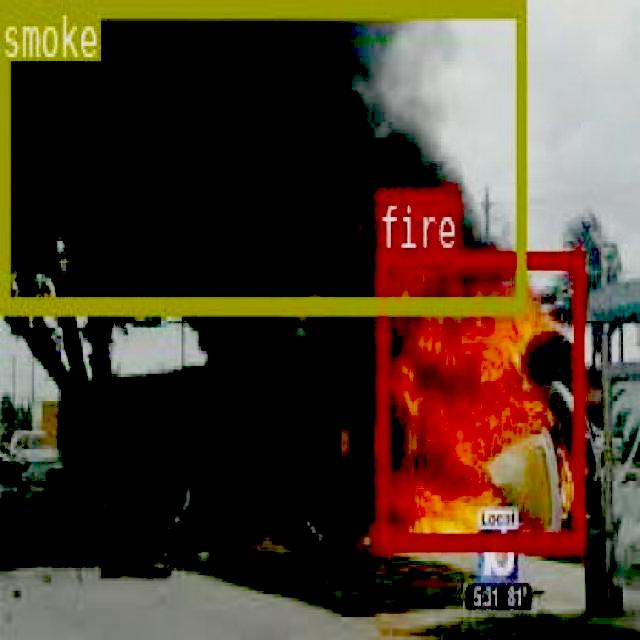fire: (376, 248, 582, 546)
smoke: (0, 0, 525, 309)
